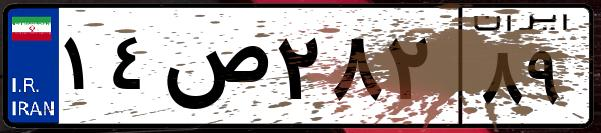1: (57, 26, 110, 100)
2: (270, 28, 330, 110), (385, 28, 445, 110)
4: (110, 28, 158, 98)
8: (330, 28, 385, 110), (475, 38, 525, 113)
9: (525, 38, 570, 115)
ص: (158, 20, 270, 120)
